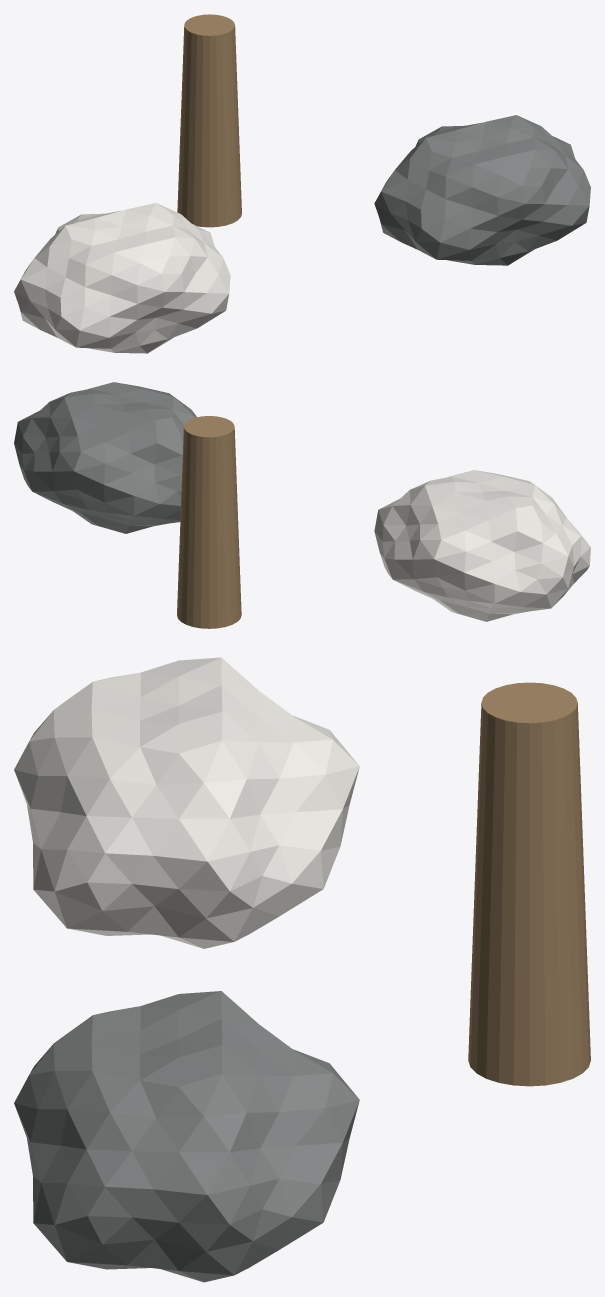
The model's file is test-lod-puzzle-critical.glb.
3 renders of one model, top to bottom at view 1: azimuth 30°, elevation 25°; view 2: azimuth 150°, elevation 25°; view 3: azimuth 270°, elevation 25°, orthographic. The views are drawn at different scales.
Parts seen in each view (by area): view 1: white-stone_lod0, rock-control_lod0, tide-gauge_lod0; view 2: white-stone_lod0, rock-control_lod0, tide-gauge_lod0; view 3: white-stone_lod0, rock-control_lod0, tide-gauge_lod0.
Part boxes in pixels (x1,y1,x2,y2): white-stone_lod0: (14,203,230,353); rock-control_lod0: (374,115,590,265); tide-gauge_lod0: (177,14,241,227); white-stone_lod0: (374,470,590,621); rock-control_lod0: (14,382,196,533); tide-gauge_lod0: (177,416,241,628); white-stone_lod0: (14,657,359,948); rock-control_lod0: (14,991,359,1282); tide-gauge_lod0: (468,682,590,1086).
Size of what is drawn, in the model's own units: 5.5 by 1.97 by 2.63.
